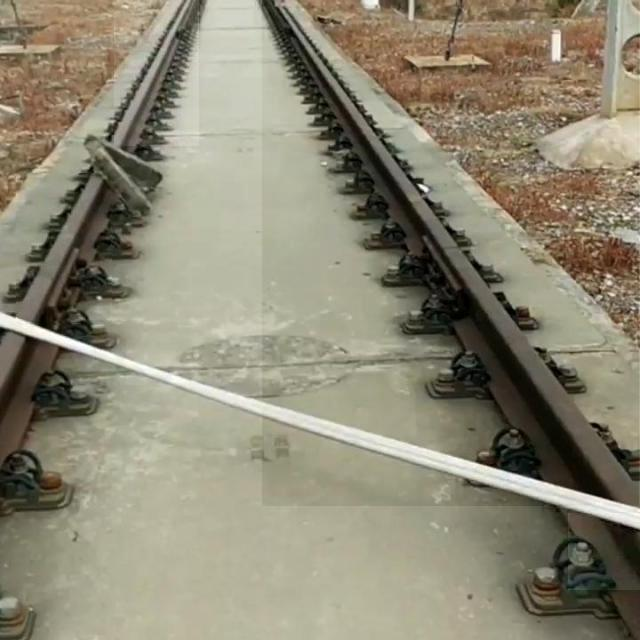rail: (263, 1, 640, 507), (18, 175, 113, 324), (115, 1, 200, 147), (2, 335, 58, 462), (569, 515, 640, 591)
